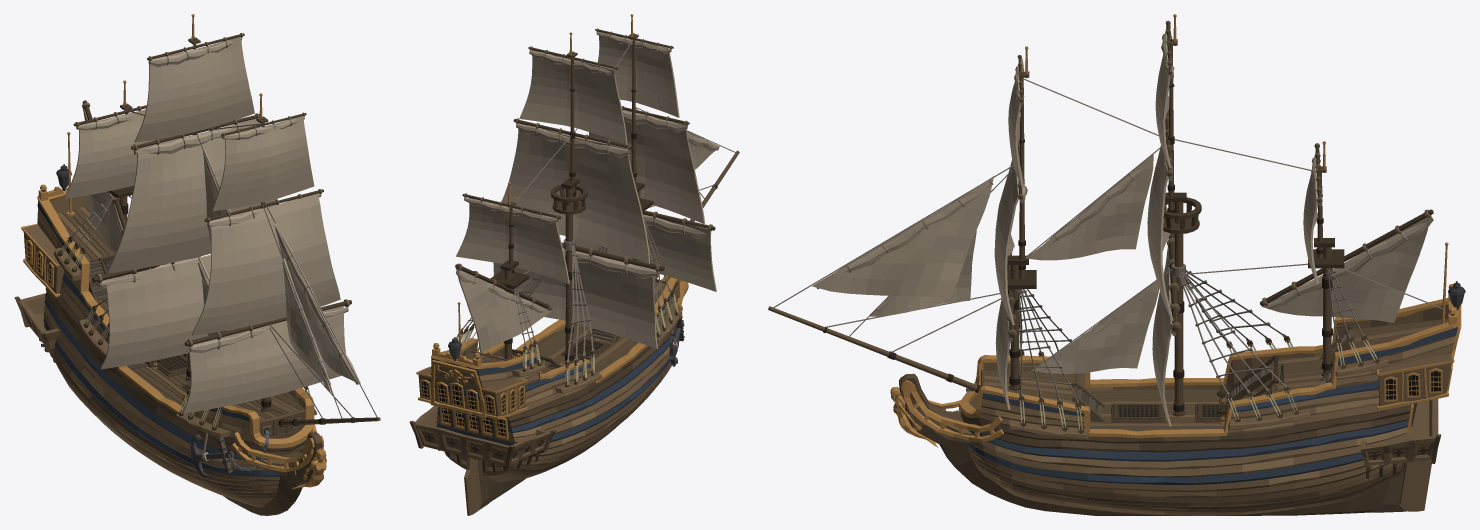
The model's file is SM_Veh_Boat_Warship_01_Hull_Upsized.glb.
3 renders of one model, left to right at view 1: azimuth 30°, elevation 25°; view 2: azimuth 150°, elevation 25°; view 3: azimuth 270°, elevation 25°, orthographic. The views are drawn at different scales.
Visible parts, largest first — view 1: SM_Veh_Boat_Warship_01_Mast_SailUp_03_Upsized; view 2: SM_Veh_Boat_Warship_01_Mast_SailUp_03_Upsized; view 3: SM_Veh_Boat_Warship_01_Mast_SailUp_03_Upsized.
Boxes of the visible parts, x1,y1,x2,y2 form: SM_Veh_Boat_Warship_01_Mast_SailUp_03_Upsized: [14, 14, 380, 515]; SM_Veh_Boat_Warship_01_Mast_SailUp_03_Upsized: [409, 14, 739, 515]; SM_Veh_Boat_Warship_01_Mast_SailUp_03_Upsized: [768, 14, 1465, 515].
Size of the model in its own units: 0.2189 by 0.4726 by 0.5962.
